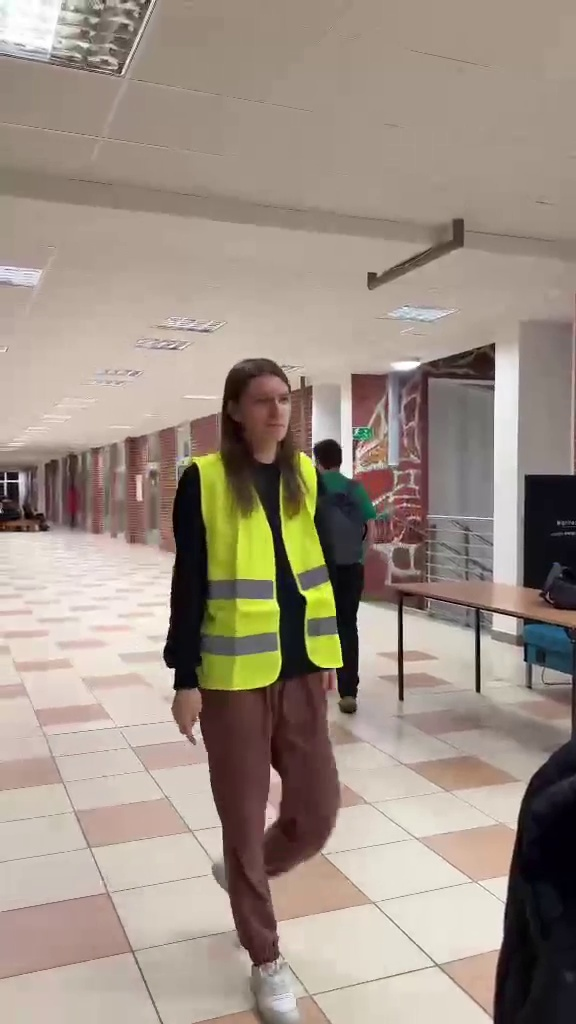vest: (164, 358, 333, 973)
